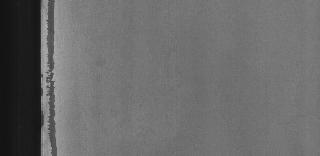oil spot: (44, 0, 72, 154)
